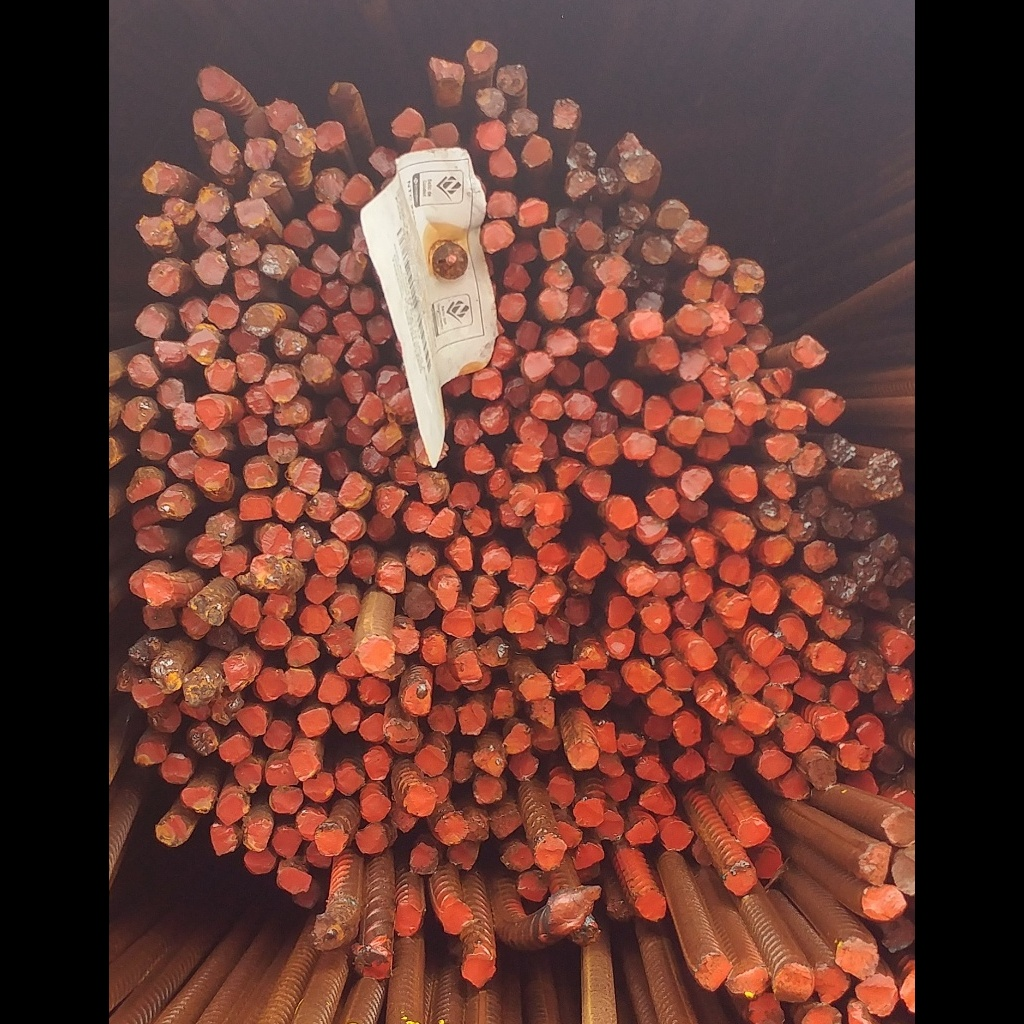dipstick: (835, 933, 881, 981), (854, 973, 900, 1017), (858, 885, 908, 923), (123, 462, 167, 504), (248, 556, 297, 593), (811, 960, 849, 1006), (385, 712, 423, 758), (670, 302, 718, 338), (642, 334, 684, 375), (694, 680, 734, 723), (774, 959, 813, 1003), (881, 800, 915, 850), (194, 457, 234, 499), (861, 465, 904, 504), (786, 577, 829, 616), (194, 63, 239, 100), (146, 254, 185, 296), (131, 570, 179, 604), (851, 646, 886, 692), (138, 157, 181, 194), (769, 397, 812, 434), (222, 651, 259, 694), (608, 374, 644, 418), (185, 322, 220, 367), (776, 717, 817, 755), (192, 393, 234, 430), (206, 139, 245, 178), (285, 456, 324, 495), (190, 247, 228, 287), (386, 103, 427, 140), (239, 301, 280, 338), (879, 625, 915, 667), (859, 842, 895, 884), (254, 523, 297, 558), (156, 483, 195, 521), (271, 485, 309, 524), (259, 240, 297, 279), (761, 460, 798, 500), (312, 820, 352, 857), (153, 812, 193, 849), (583, 316, 619, 357), (355, 636, 396, 672), (749, 574, 783, 617), (264, 366, 302, 404), (678, 462, 715, 501), (718, 550, 755, 589), (695, 952, 732, 991), (131, 301, 168, 340), (734, 386, 770, 426), (807, 638, 848, 673), (240, 454, 281, 489), (237, 488, 279, 522), (640, 390, 673, 433), (486, 803, 524, 840), (528, 579, 566, 616), (183, 670, 220, 708), (632, 883, 668, 922), (352, 819, 391, 855), (811, 389, 846, 429), (202, 354, 237, 394), (136, 212, 176, 247), (303, 199, 343, 234), (637, 785, 682, 816), (675, 217, 709, 258), (632, 512, 673, 546), (254, 664, 287, 706), (292, 415, 334, 448), (293, 705, 336, 737), (821, 431, 858, 468), (720, 514, 757, 551), (230, 757, 267, 794), (119, 394, 156, 431), (271, 324, 308, 361), (241, 137, 279, 173), (310, 914, 346, 952), (879, 916, 915, 954), (136, 428, 174, 464), (659, 658, 698, 693), (311, 166, 345, 206), (726, 464, 760, 504), (535, 487, 568, 528), (643, 685, 684, 718), (325, 79, 361, 116), (485, 146, 521, 183), (720, 859, 756, 896), (462, 951, 498, 988), (133, 733, 170, 769), (203, 510, 240, 546), (545, 324, 583, 359), (605, 493, 640, 531), (621, 563, 659, 598), (671, 710, 706, 748), (321, 624, 359, 659), (257, 615, 295, 650), (562, 139, 601, 173), (621, 428, 660, 462), (718, 723, 757, 757), (573, 636, 612, 670), (190, 108, 230, 141), (464, 36, 497, 76), (801, 538, 841, 571), (777, 611, 810, 651), (333, 759, 366, 799), (265, 756, 305, 789), (208, 291, 241, 331), (849, 502, 881, 543), (747, 992, 788, 1024), (266, 785, 307, 817), (228, 592, 260, 633), (271, 395, 312, 427), (619, 153, 661, 184), (825, 676, 861, 712), (571, 795, 607, 831), (431, 809, 467, 845), (337, 472, 373, 508), (670, 381, 707, 416), (756, 497, 793, 532), (329, 698, 364, 735), (402, 581, 437, 618), (356, 672, 393, 707), (403, 497, 438, 534), (226, 230, 261, 267), (280, 214, 317, 249), (790, 334, 828, 368), (726, 343, 760, 381), (759, 532, 797, 566), (732, 661, 770, 695), (623, 659, 661, 693), (738, 700, 772, 738), (870, 741, 908, 775), (275, 865, 313, 899), (821, 501, 854, 540), (636, 628, 675, 661), (455, 698, 488, 737), (668, 748, 708, 780), (187, 426, 231, 455), (248, 170, 289, 201), (537, 224, 568, 265), (690, 526, 721, 567), (518, 134, 554, 169), (594, 253, 630, 288), (747, 629, 783, 664), (402, 783, 438, 818), (727, 966, 769, 996), (234, 702, 270, 737), (303, 568, 338, 604), (314, 540, 349, 576), (497, 61, 531, 98), (645, 482, 678, 520), (856, 715, 889, 753), (301, 772, 339, 805), (586, 434, 625, 466), (645, 445, 684, 477), (447, 536, 479, 575), (370, 421, 409, 453), (884, 660, 915, 700), (124, 635, 164, 666), (194, 186, 229, 221), (473, 118, 508, 153), (358, 791, 393, 826), (217, 788, 252, 823), (184, 722, 219, 757), (265, 430, 300, 465), (428, 56, 464, 90), (682, 269, 718, 303), (641, 230, 675, 266), (468, 368, 504, 402), (535, 541, 569, 577), (673, 595, 707, 631), (660, 817, 696, 851), (737, 812, 773, 846), (358, 947, 394, 981), (425, 700, 459, 736), (502, 599, 536, 635), (427, 506, 461, 542), (375, 365, 409, 401), (382, 387, 416, 423), (233, 198, 270, 231), (340, 171, 373, 208), (759, 366, 796, 399), (652, 565, 685, 602), (806, 751, 839, 788), (442, 899, 475, 936), (292, 523, 325, 560), (474, 81, 506, 119), (654, 198, 692, 230), (730, 261, 768, 293), (403, 544, 441, 576), (851, 553, 885, 588), (719, 594, 754, 628), (429, 574, 463, 609), (233, 350, 268, 384), (289, 264, 323, 299), (335, 248, 370, 282), (502, 237, 543, 266), (496, 842, 537, 871), (704, 401, 740, 434), (514, 414, 550, 447), (467, 572, 500, 608), (379, 549, 406, 593), (317, 672, 353, 705), (150, 657, 183, 693), (483, 219, 515, 256), (813, 707, 850, 739), (550, 662, 587, 694), (474, 746, 511, 778), (401, 680, 433, 717), (289, 746, 326, 778), (179, 782, 216, 814), (126, 354, 158, 391), (701, 366, 732, 404), (792, 441, 823, 479), (790, 674, 828, 705), (244, 846, 282, 877), (476, 636, 514, 667), (550, 92, 579, 132), (394, 897, 423, 937), (283, 124, 317, 158), (617, 198, 651, 232), (541, 258, 575, 292), (574, 545, 608, 579), (682, 567, 716, 601), (758, 746, 792, 780), (270, 825, 304, 859), (161, 751, 195, 785), (506, 552, 540, 586), (451, 650, 485, 684), (508, 104, 541, 139), (765, 431, 800, 464), (768, 653, 803, 686), (220, 544, 253, 579), (177, 297, 210, 332), (601, 628, 637, 660), (595, 809, 627, 845), (581, 675, 613, 711), (296, 602, 332, 634), (823, 575, 860, 606), (218, 732, 255, 763), (284, 634, 321, 665), (445, 477, 482, 508), (131, 525, 170, 554), (531, 389, 565, 422), (559, 419, 592, 453), (761, 682, 794, 716), (685, 636, 718, 670), (624, 814, 658, 847), (602, 771, 635, 805), (208, 821, 241, 855), (562, 595, 596, 628), (416, 468, 450, 501), (374, 482, 408, 515), (306, 490, 339, 524), (535, 287, 570, 319), (705, 739, 737, 774), (238, 382, 273, 414), (425, 119, 460, 151), (678, 344, 709, 380), (667, 415, 703, 446), (409, 839, 440, 875), (328, 508, 364, 539), (297, 301, 328, 337), (160, 194, 196, 225), (634, 755, 671, 785), (696, 432, 734, 461), (560, 391, 598, 420), (562, 170, 601, 198), (651, 537, 690, 565), (836, 739, 875, 767), (495, 291, 528, 324), (580, 469, 613, 502), (413, 745, 446, 778), (502, 262, 536, 294), (485, 467, 517, 501), (799, 484, 831, 518), (868, 531, 902, 563), (817, 605, 849, 639), (605, 595, 637, 629), (506, 751, 540, 783), (113, 662, 147, 694), (178, 606, 210, 640), (354, 391, 386, 425), (607, 222, 638, 257), (712, 277, 743, 312), (478, 403, 509, 438), (471, 773, 506, 804), (190, 594, 225, 625), (194, 532, 225, 567), (164, 449, 199, 480), (358, 444, 393, 475), (299, 352, 334, 383), (265, 99, 301, 129), (577, 219, 607, 255), (515, 196, 551, 226), (509, 443, 545, 473), (203, 622, 239, 652), (460, 506, 496, 536), (509, 482, 538, 519), (698, 244, 730, 277), (582, 359, 614, 392), (521, 349, 554, 381), (536, 836, 568, 869), (241, 816, 273, 849), (193, 217, 225, 250), (313, 119, 347, 150), (366, 146, 400, 177), (593, 165, 627, 196), (883, 555, 914, 589), (567, 738, 598, 772), (481, 544, 512, 578), (226, 325, 260, 356), (565, 283, 595, 318), (461, 444, 496, 474), (788, 507, 818, 542), (364, 745, 394, 780), (340, 368, 370, 403), (145, 705, 181, 734), (757, 843, 785, 880), (140, 602, 177, 630), (422, 631, 449, 669), (596, 287, 628, 319), (780, 768, 812, 800), (343, 336, 375, 368), (244, 107, 277, 138), (236, 416, 269, 447), (231, 267, 262, 300), (554, 458, 584, 492), (701, 616, 731, 650), (515, 871, 549, 901), (518, 670, 552, 700), (515, 623, 549, 653), (641, 600, 670, 635), (359, 711, 388, 746), (391, 619, 420, 654), (328, 592, 363, 621), (262, 591, 297, 620), (573, 843, 609, 871), (350, 545, 378, 581), (453, 415, 485, 446), (544, 774, 575, 806), (449, 841, 481, 872), (344, 414, 375, 446), (262, 717, 292, 750), (331, 309, 364, 339), (492, 335, 521, 369), (528, 521, 563, 549), (295, 806, 323, 841), (867, 445, 906, 470), (629, 312, 665, 339), (845, 768, 881, 795), (129, 680, 166, 706), (286, 666, 317, 697), (320, 277, 351, 308), (600, 529, 630, 561), (155, 377, 184, 410), (501, 378, 529, 412), (472, 607, 506, 635), (365, 313, 393, 347), (743, 323, 775, 352), (859, 585, 891, 614), (616, 729, 648, 758), (504, 723, 533, 755), (368, 513, 397, 545), (126, 502, 159, 530), (315, 332, 343, 365), (311, 242, 339, 275), (335, 652, 369, 679), (631, 286, 666, 312), (532, 722, 562, 752), (494, 685, 519, 721), (486, 188, 517, 217), (588, 406, 617, 437), (643, 712, 674, 741), (595, 752, 626, 781), (528, 698, 559, 727), (303, 842, 334, 871), (322, 449, 351, 480), (555, 818, 587, 846), (425, 774, 453, 806), (542, 616, 572, 645), (388, 456, 418, 485), (736, 297, 768, 324), (678, 497, 710, 524), (593, 720, 619, 753), (461, 807, 487, 840), (150, 340, 187, 363), (515, 319, 540, 353), (552, 360, 581, 389), (614, 131, 649, 155), (497, 499, 525, 529), (350, 283, 376, 315), (568, 567, 597, 595), (323, 397, 352, 425), (172, 401, 199, 430), (453, 750, 475, 784), (538, 432, 563, 461), (435, 663, 460, 691), (555, 205, 578, 235), (691, 837, 714, 867), (467, 669, 492, 691)
